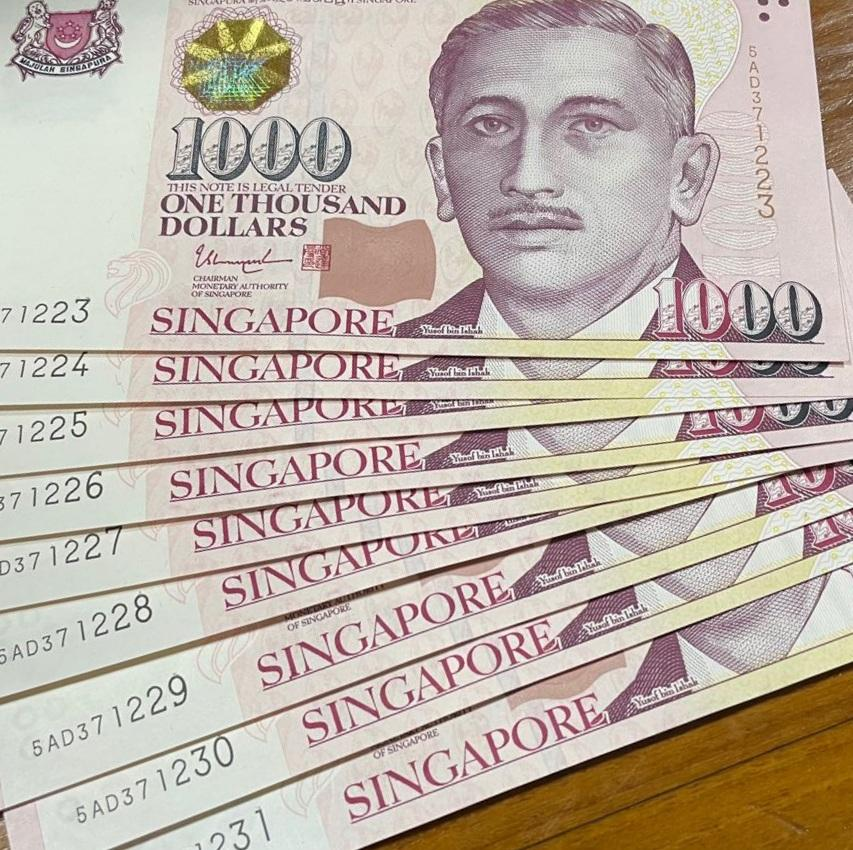1000SingaporeDollar: (0, 0, 819, 348)
